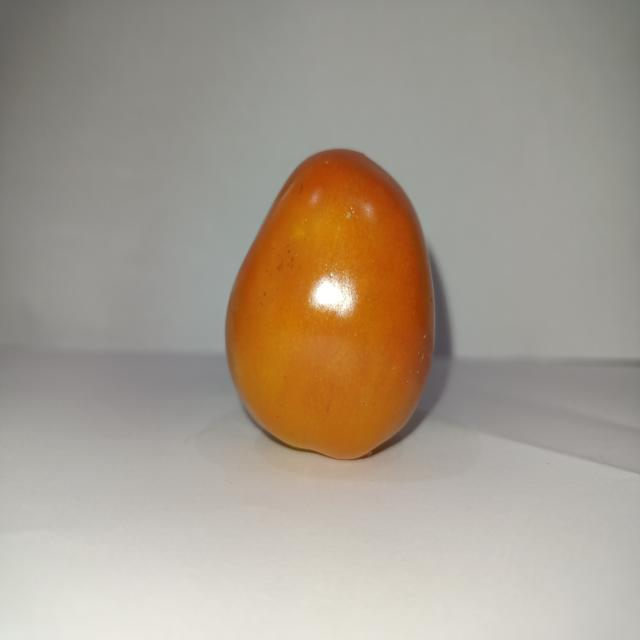Red: (223, 146, 436, 460)
